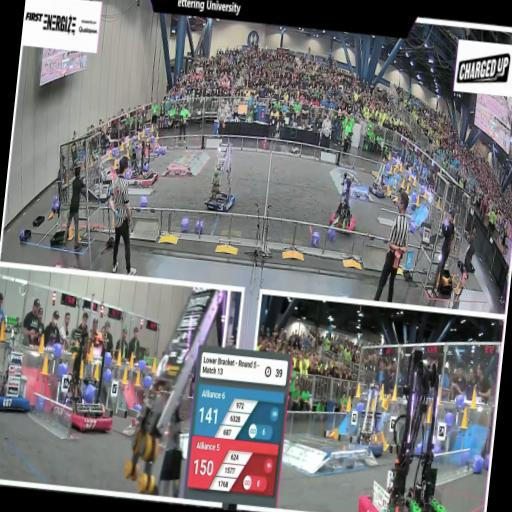robot: (126, 284, 228, 500), (356, 339, 475, 512), (62, 328, 123, 436), (204, 140, 242, 214), (0, 340, 37, 413), (48, 343, 80, 420), (330, 171, 362, 233), (134, 134, 163, 192), (370, 154, 396, 200)
